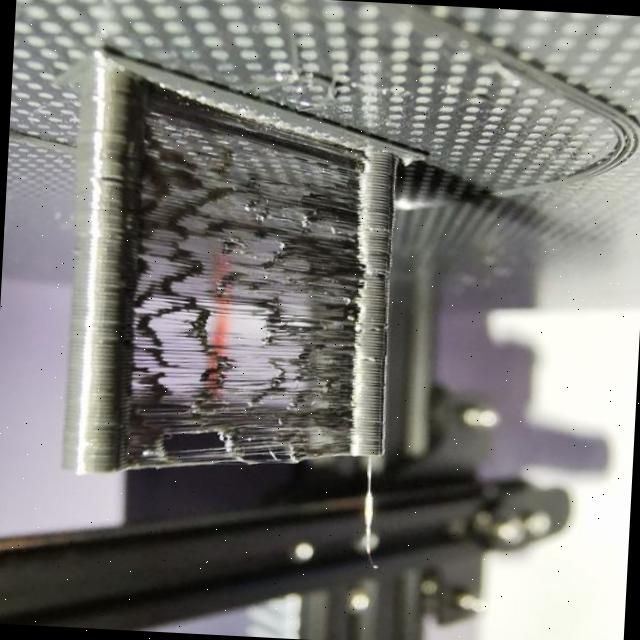stringing: (91, 127, 372, 490)
